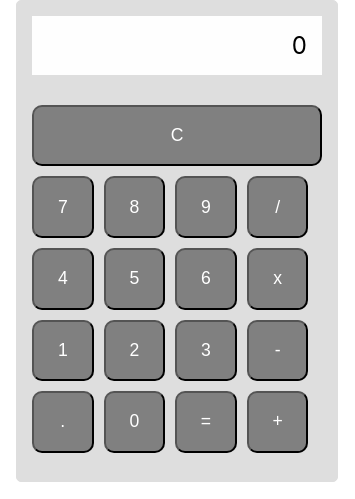
it: Calculator › should concatenate multiple button clicks
The width and height of the screenshot is (355, 499).
Click the button with id "number3".
click(206, 350)  # box [175,320,237,381]
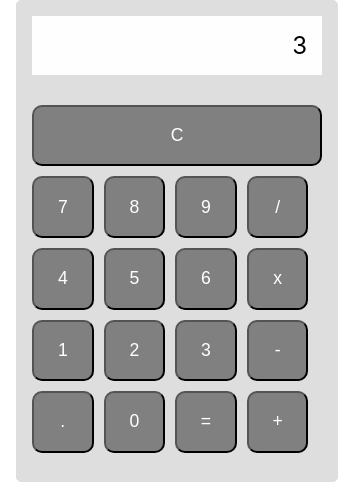
Click the button with id "number4".
click(63, 279)  # box [32,248,94,310]
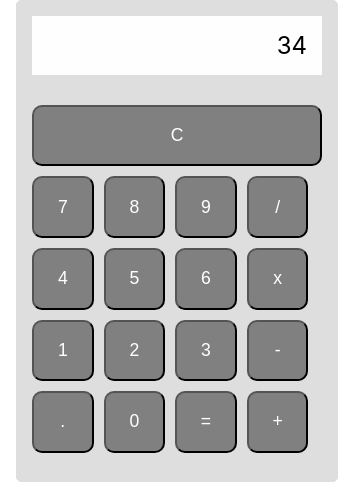
Click the button with id "number5".
click(134, 279)  # box [104,248,165,310]
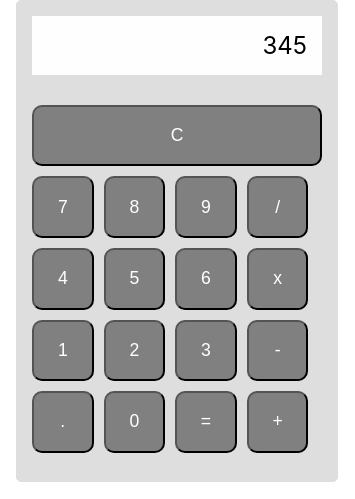
Click the button with id "number6".
click(206, 279)  # box [175,248,237,310]
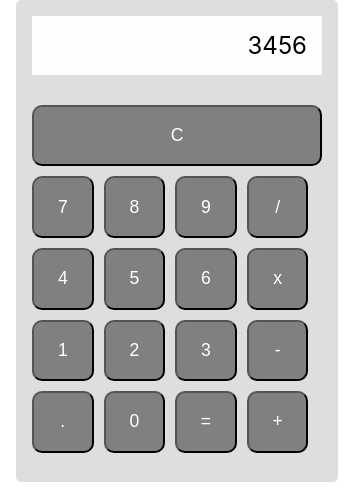
Result: the text with id "running-total" reads "3456" at [248,31,307,60]
